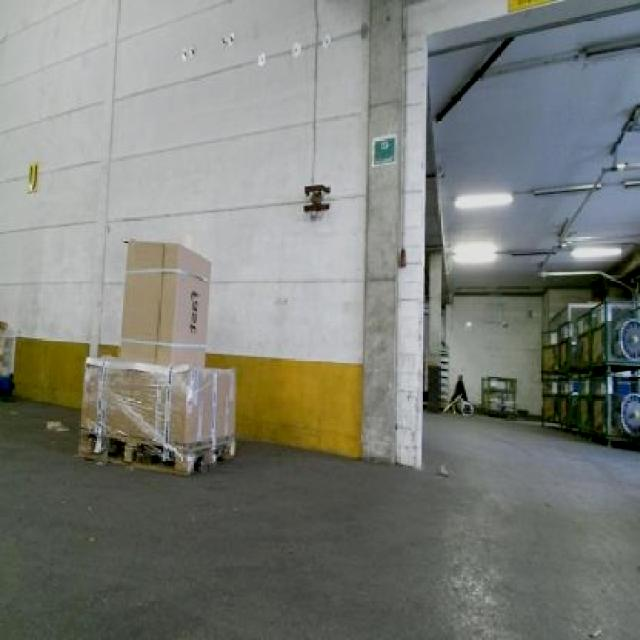floor: (0, 398, 637, 637)
pallets: (77, 357, 232, 471), (540, 298, 637, 443), (118, 238, 208, 365), (0, 320, 12, 392)
